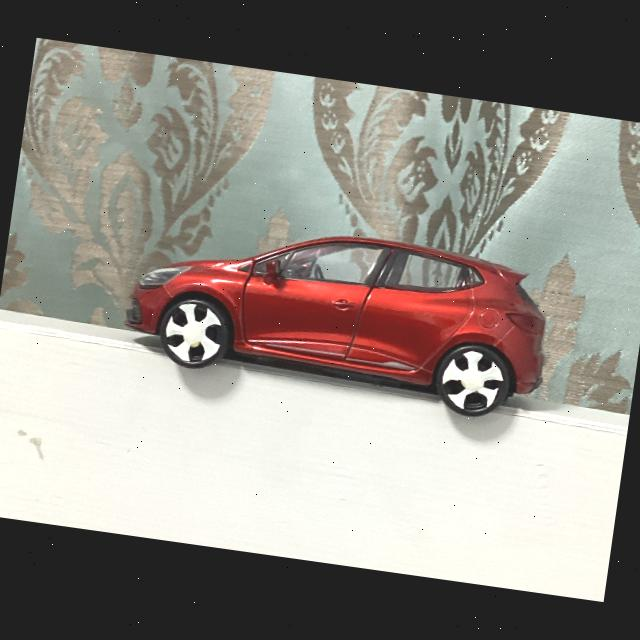Yanlis_Jant: (438, 346, 508, 416), (163, 303, 226, 367)
